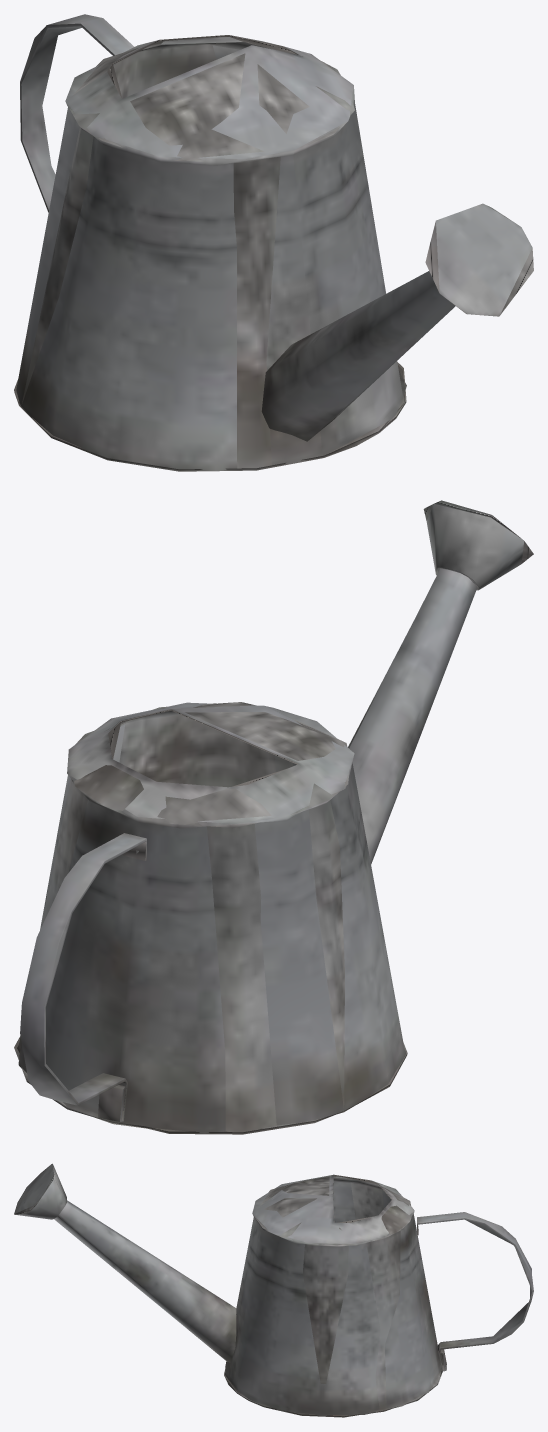
File: watercan.glb
3 renders of one model, top to bottom at view 1: azimuth 30°, elevation 25°; view 2: azimuth 150°, elevation 25°; view 3: azimuth 270°, elevation 25°, orthographic. The views are drawn at different scales.
Parts seen in each view (by area): view 1: watering_can_metal_01; view 2: watering_can_metal_01; view 3: watering_can_metal_01.
Part boxes in pixels (x1=…): watering_can_metal_01: x1=14, y1=14, x2=533, y2=471; watering_can_metal_01: x1=14, y1=500, x2=533, y2=1134; watering_can_metal_01: x1=14, y1=1163, x2=533, y2=1417.
Bounding box in the file's own units: 0.1896 × 0.1943 × 0.4521.
Materials: 1 (1 with a texture image).
